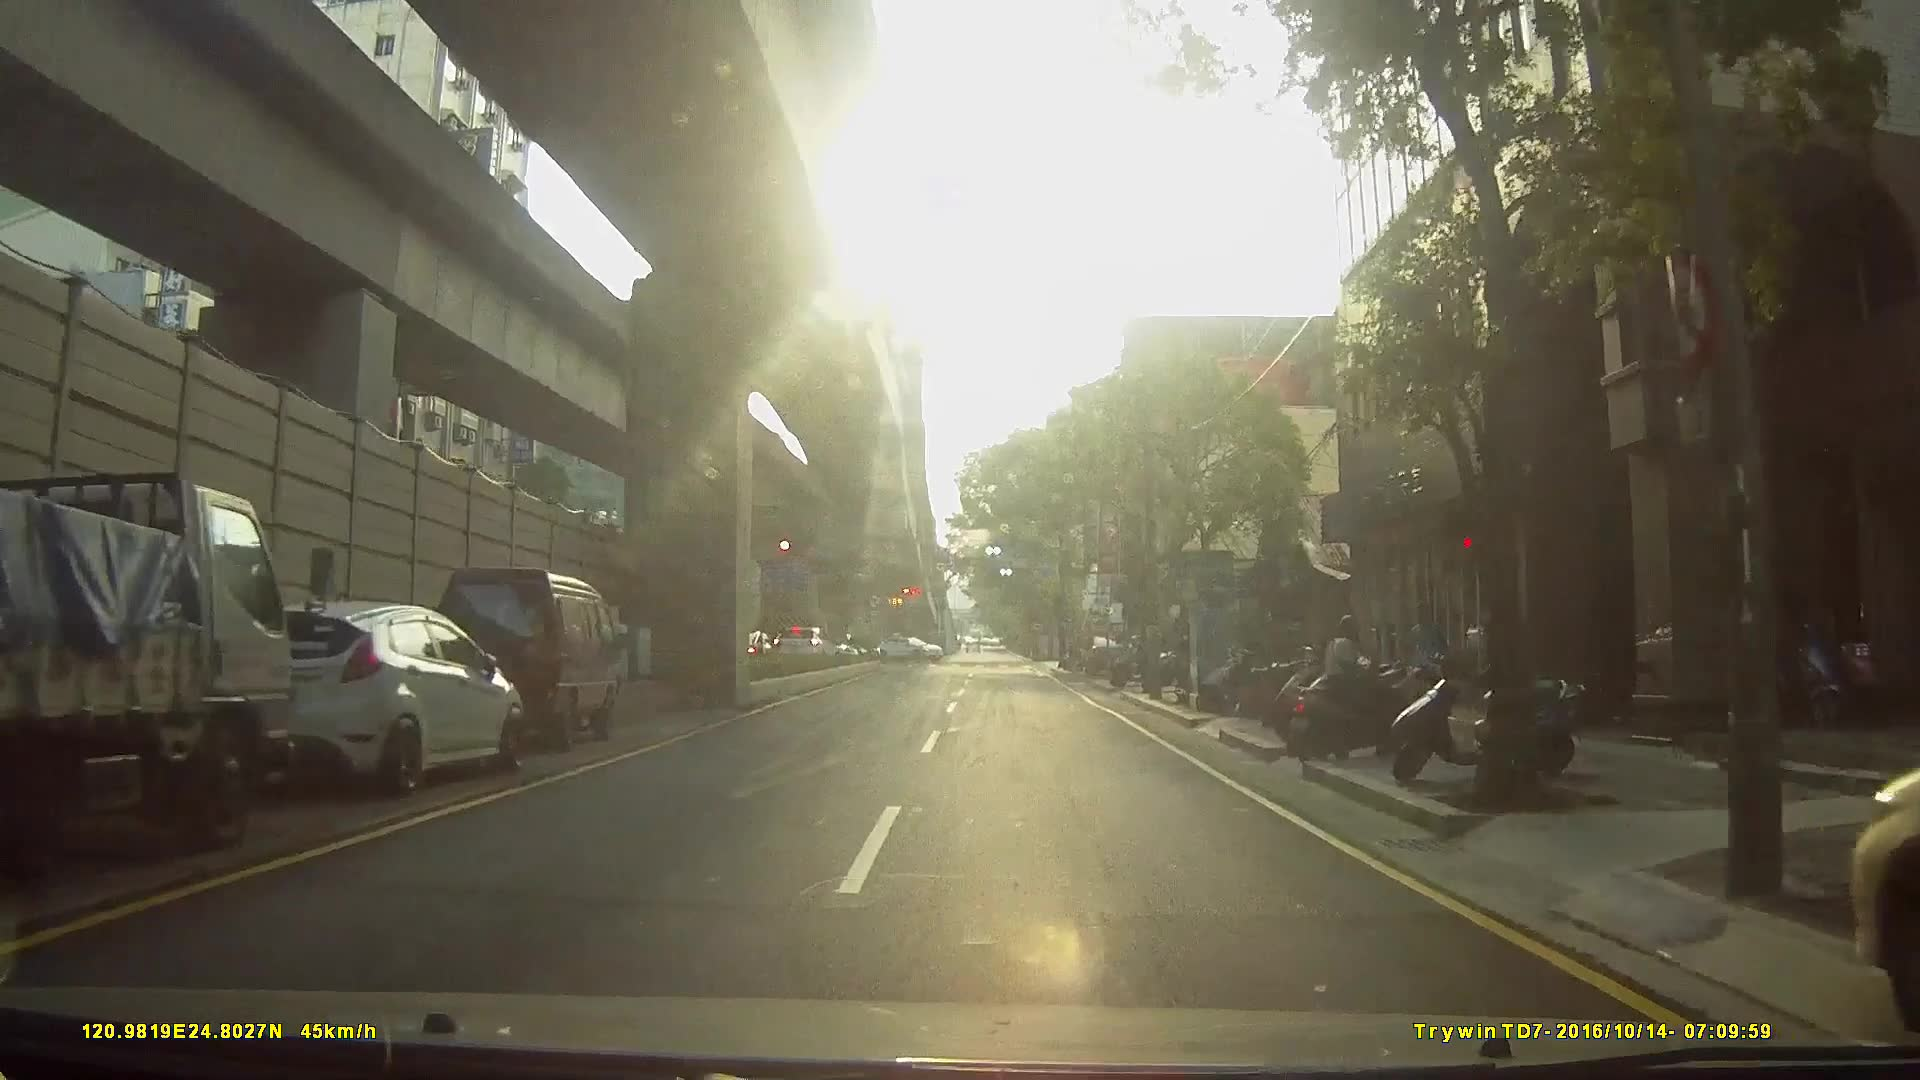pedestrian: (1400, 597, 1453, 726)
rider: (1285, 607, 1430, 759)
vehicle: (1, 454, 355, 873), (216, 582, 519, 801), (418, 558, 624, 750), (770, 623, 837, 665), (1078, 632, 1126, 674), (875, 632, 941, 660)
